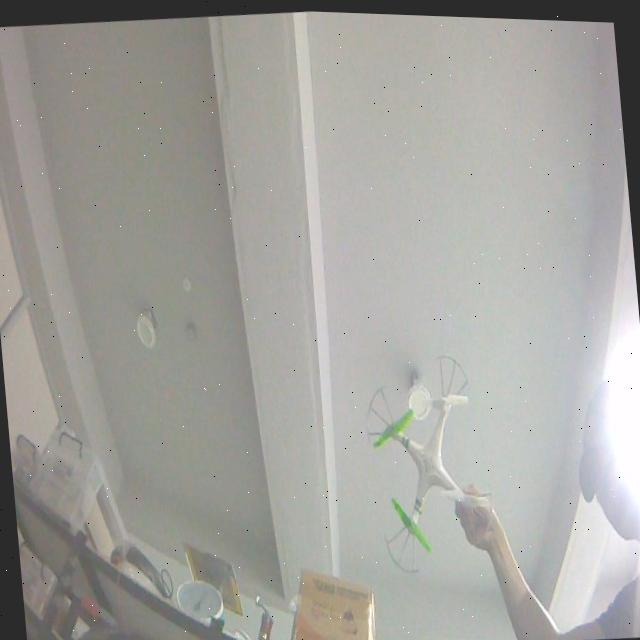drone: (356, 342, 502, 579)
